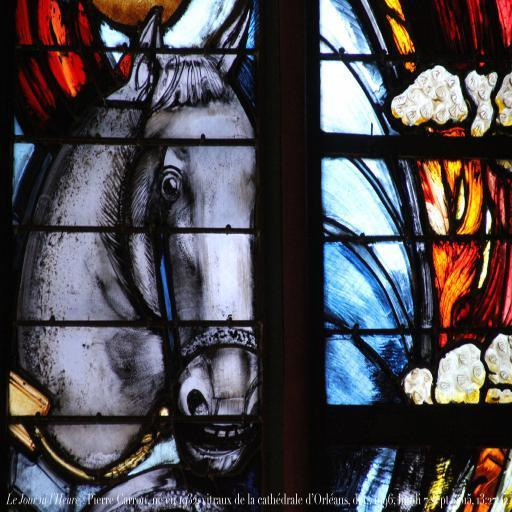horse: (4, 0, 260, 512)
